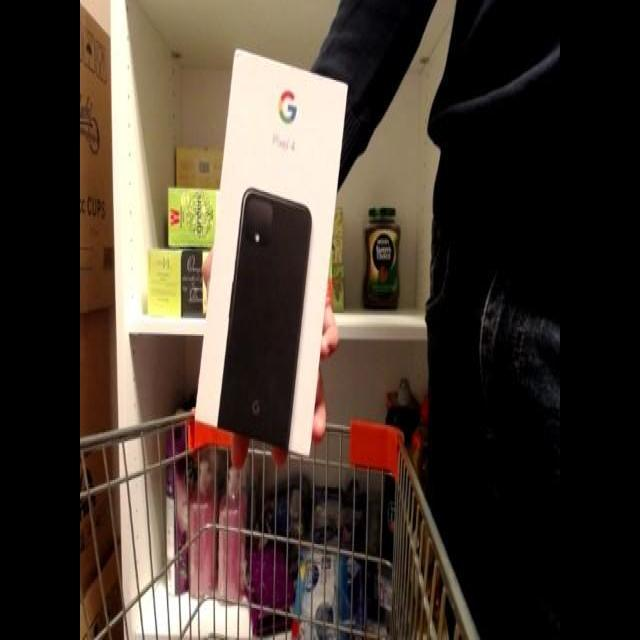Pixel 4: (188, 36, 365, 466)
